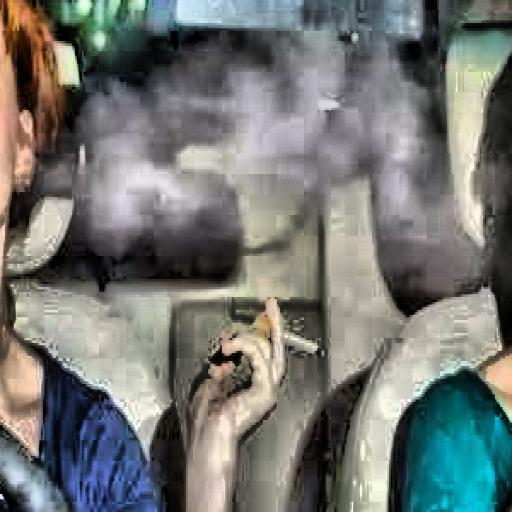Merokok: (234, 305, 270, 333), (283, 330, 324, 353)
Rokok: (43, 31, 459, 512)
